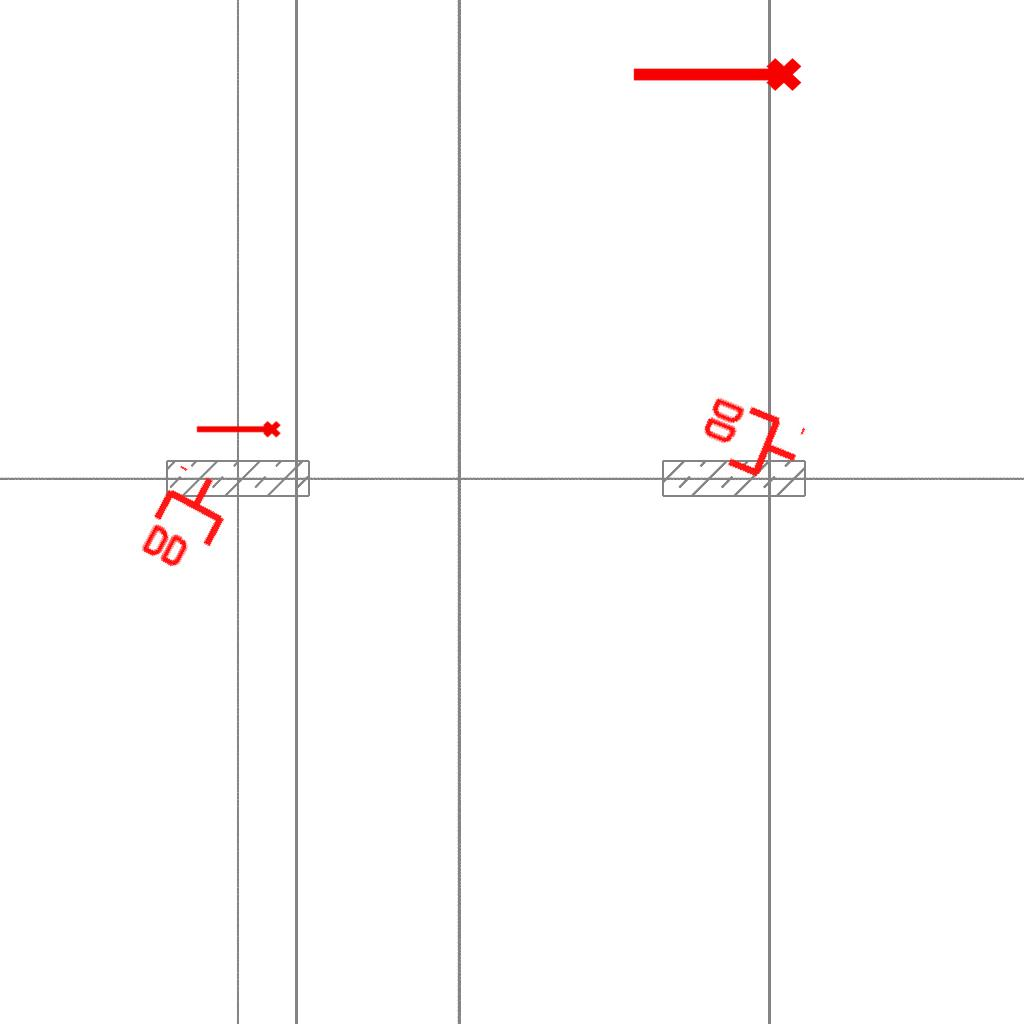ASR_Ansaugoeffnung: (628, 54, 804, 100), (194, 419, 282, 442)
Datenanschluss_zweifach: (133, 460, 244, 585), (688, 390, 811, 493)
